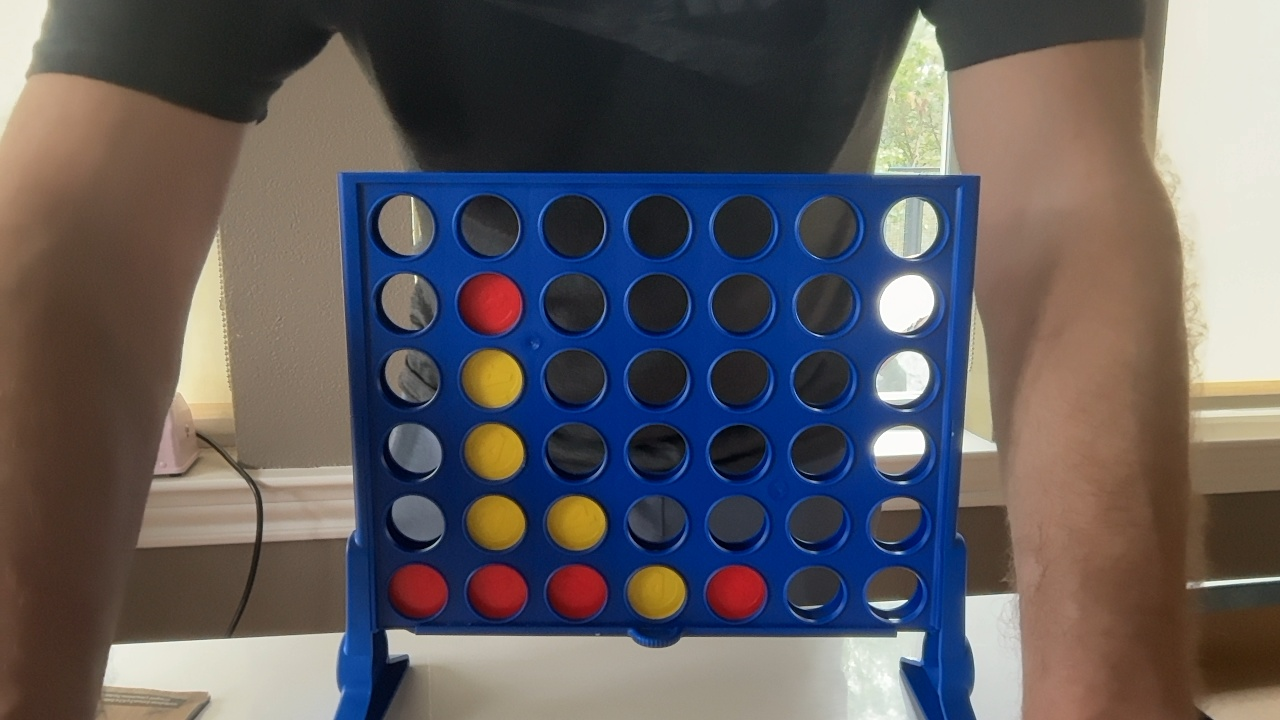red piece: (458, 273, 522, 334), (547, 564, 607, 620), (467, 564, 527, 620), (706, 565, 766, 621), (389, 564, 447, 619)
yellow piece: (461, 348, 523, 408), (464, 423, 524, 480), (546, 495, 606, 550), (466, 495, 526, 550), (627, 565, 686, 620)
